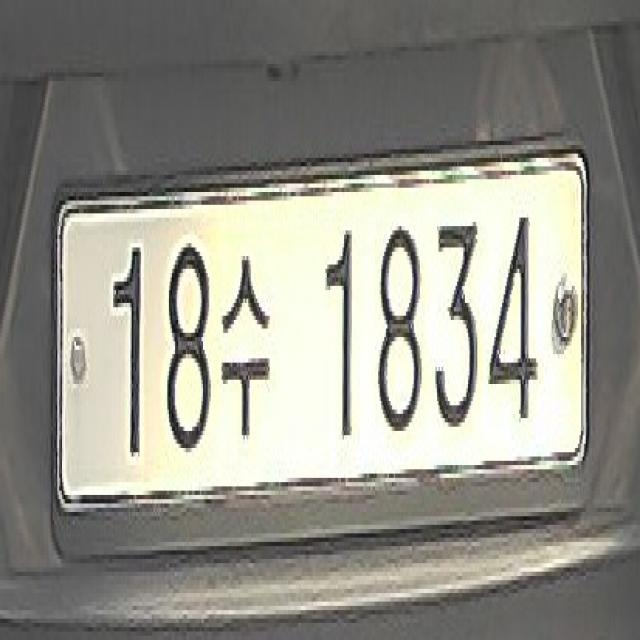1: (110, 230, 152, 465), (322, 222, 363, 444)
3: (432, 214, 485, 436)
4: (488, 205, 541, 431)
8: (163, 230, 215, 461), (375, 218, 428, 435)
license_plate: (48, 128, 597, 572)
su: (220, 252, 271, 448)
